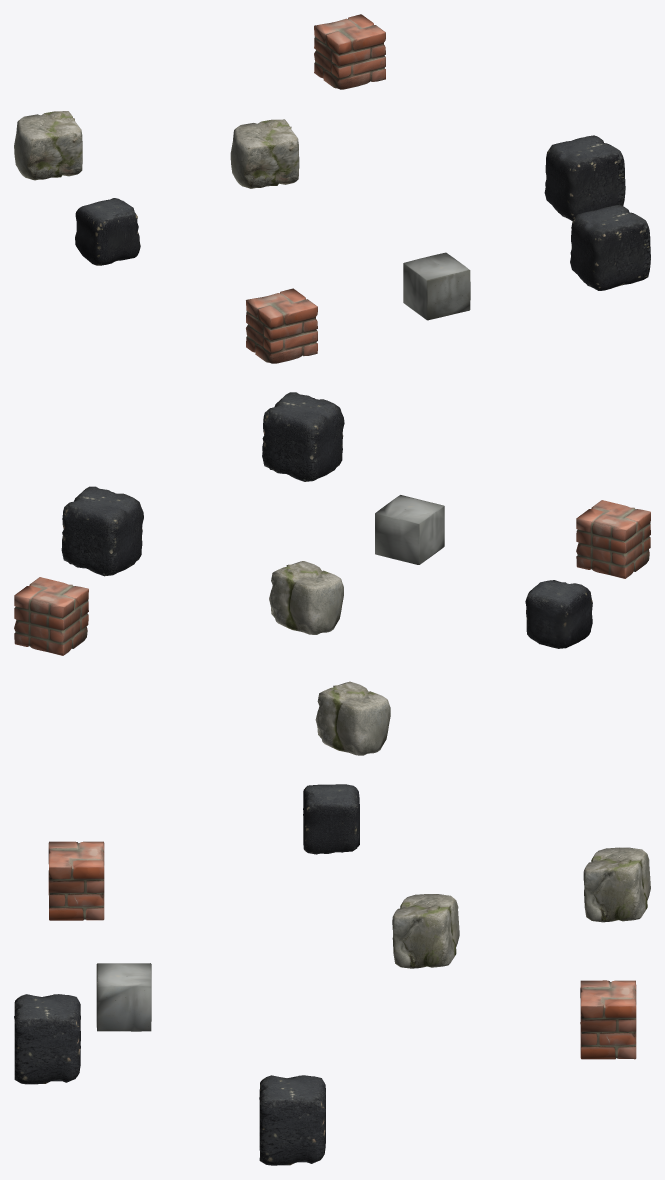
File: Brick_Animation_3.gltf
3 views of the same model, one above another, from view 1: azimuth 30°, elevation 25°; view 2: azimuth 150°, elevation 25°; view 3: azimuth 270°, elevation 25° (orthographic). The views are drawn at different scales.
Visible parts, largest first — view 1: Block_5.001, Block_5, Block_2, Block_2.001, Block_3, Block_3.001, Block_4, Block_1; view 2: Block_5.001, Block_5, Block_2.001, Block_2, Block_3.001, Block_3, Block_4, Block_1; view 3: Block_5.001, Block_5, Block_3.001, Block_2, Block_3, Block_2.001, Block_4, Block_1.
Part boxes in pixels (left/top/right/bottom): Block_5.001: left=570, top=205, right=650, bottom=290; Block_5: left=544, top=135, right=625, bottom=220; Block_2: left=314, top=14, right=385, bottom=89; Block_2.001: left=246, top=288, right=317, bottom=363; Block_3: left=230, top=119, right=299, bottom=188; Block_3.001: left=14, top=111, right=82, bottom=180; Block_4: left=403, top=252, right=470, bottom=320; Block_1: left=75, top=198, right=140, bottom=265; Block_5.001: left=262, top=392, right=344, bottom=481; Block_5: left=61, top=486, right=143, bottom=576; Block_2.001: left=576, top=500, right=650, bottom=578; Block_2: left=14, top=577, right=88, bottom=655; Block_3.001: left=315, top=681, right=390, bottom=755; Block_3: left=269, top=561, right=343, bottom=634; Block_4: left=375, top=495, right=444, bottom=564; Block_1: left=525, top=580, right=592, bottom=648; Block_5.001: left=14, top=994, right=80, bottom=1084; Block_5: left=259, top=1075, right=325, bottom=1165; Block_3.001: left=583, top=847, right=650, bottom=922; Block_2: left=580, top=980, right=636, bottom=1059; Block_3: left=392, top=894, right=459, bottom=968; Block_2.001: left=48, top=841, right=104, bottom=920; Block_4: left=96, top=963, right=151, bottom=1031; Block_1: left=303, top=784, right=359, bottom=854.
Size of the model in its own units: 3.94 by 0.7341 by 3.81.
4 materials, 4 textured.
